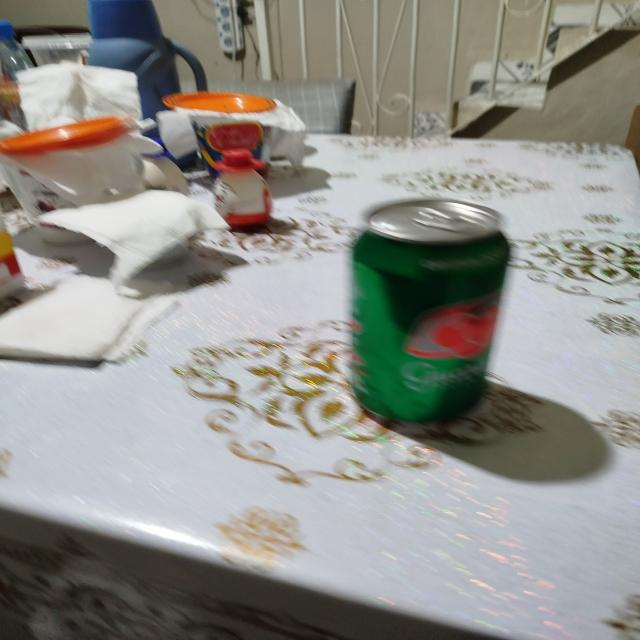Guarana: (353, 205, 515, 421)
